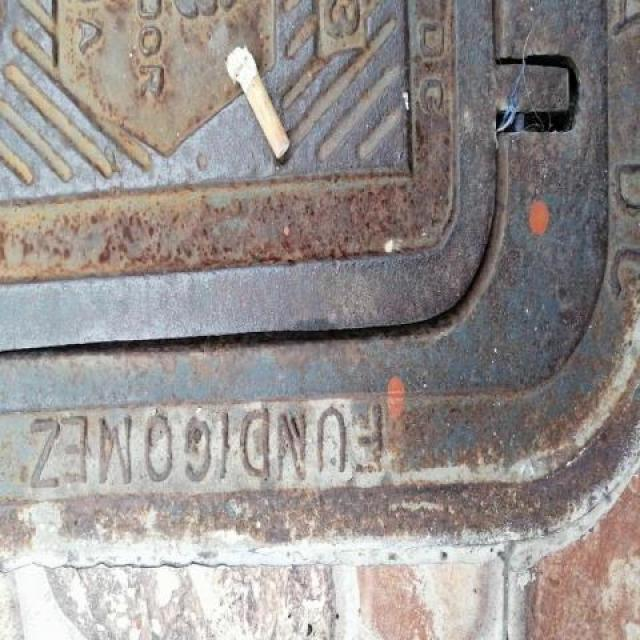non-organic waste: (223, 44, 296, 165)
